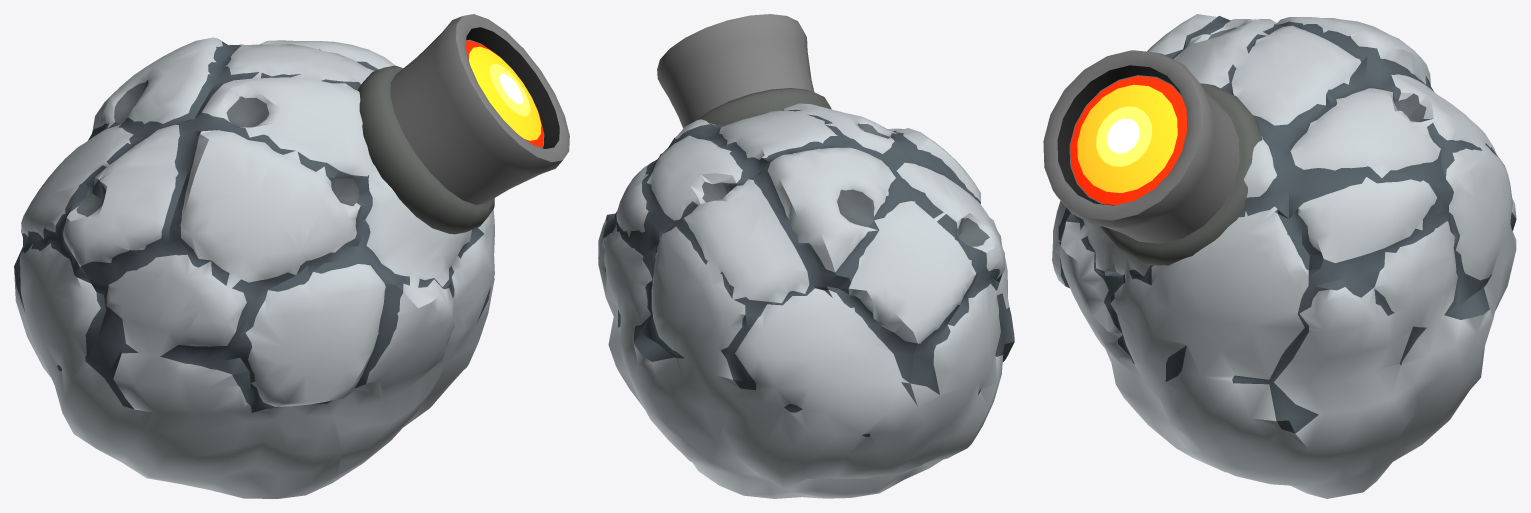
The model's file is sphere_nozzle.glb.
The picture shows the model from 3 angles, left to right: view 1: azimuth 30°, elevation 25°; view 2: azimuth 150°, elevation 25°; view 3: azimuth 270°, elevation 25°; orthographic projection. The views are drawn at different scales.
Visible parts, largest first — view 1: shell, barrel, collar, bulb; view 2: shell, barrel, collar; view 3: shell, barrel, bulb, collar.
Part boxes in pixels (<box>): shell: <box>14,37,494,498</box>; barrel: <box>390,14,569,204</box>; collar: <box>358,65,494,234</box>; bulb: <box>466,40,543,147</box>; shell: <box>598,103,1014,498</box>; barrel: <box>657,14,814,128</box>; collar: <box>696,88,831,124</box>; shell: <box>1052,14,1516,498</box>; barrel: <box>1043,50,1239,243</box>; bulb: <box>1070,76,1187,205</box>; collar: <box>1100,83,1262,265</box>.
Size of the model in its own units: 19.7 by 19.71 by 17.66.
